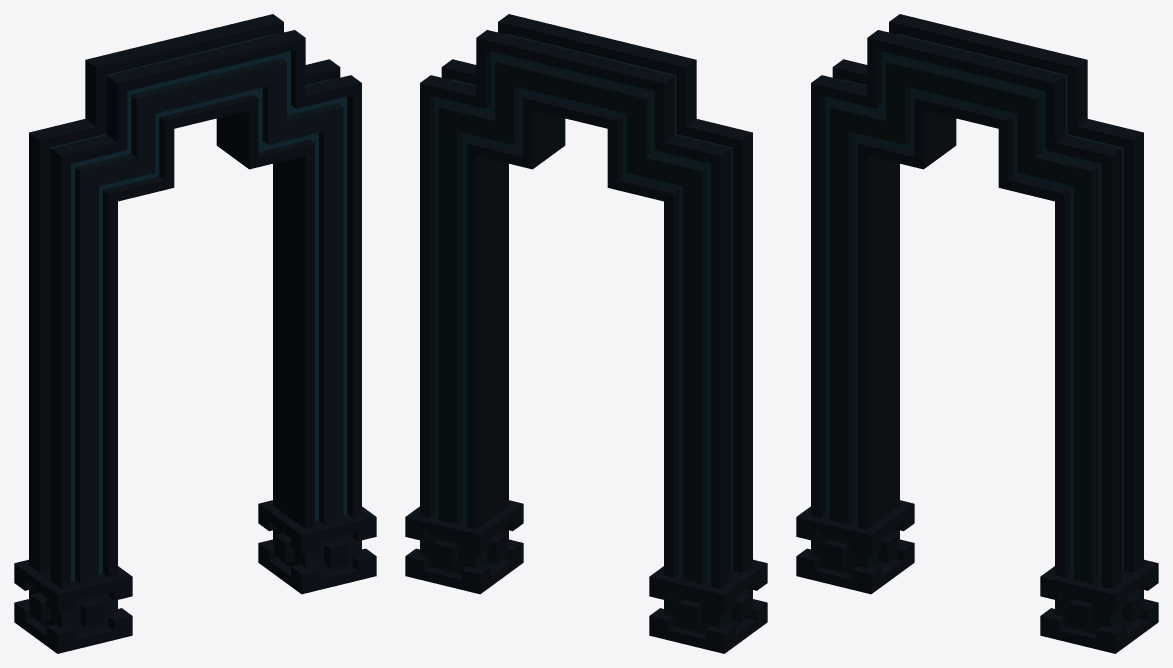
File: PortalFrame.obj
3 renders of one model, left to right at view 1: azimuth 30°, elevation 25°; view 2: azimuth 150°, elevation 25°; view 3: azimuth 330°, elevation 25°, orthographic.
Size of the model in its own units: 0.85 by 1.4 by 0.2.
